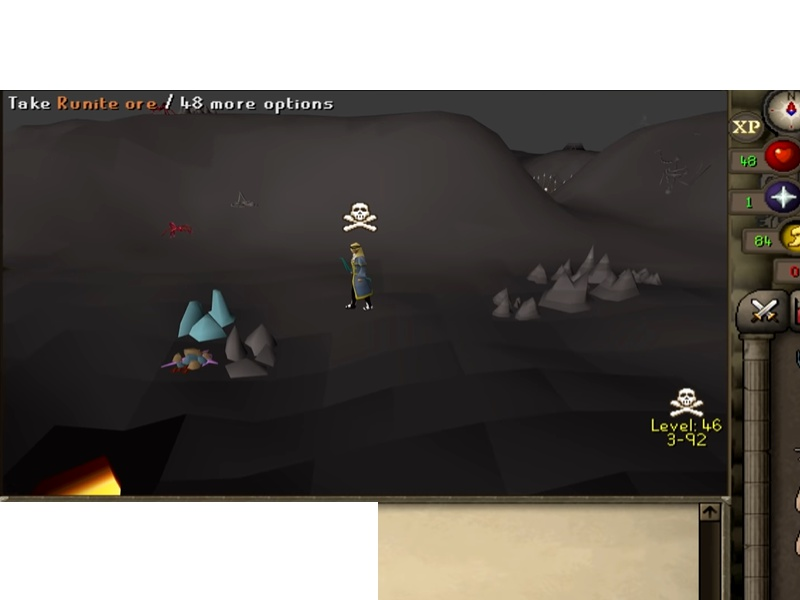rune: (173, 284, 236, 344)
